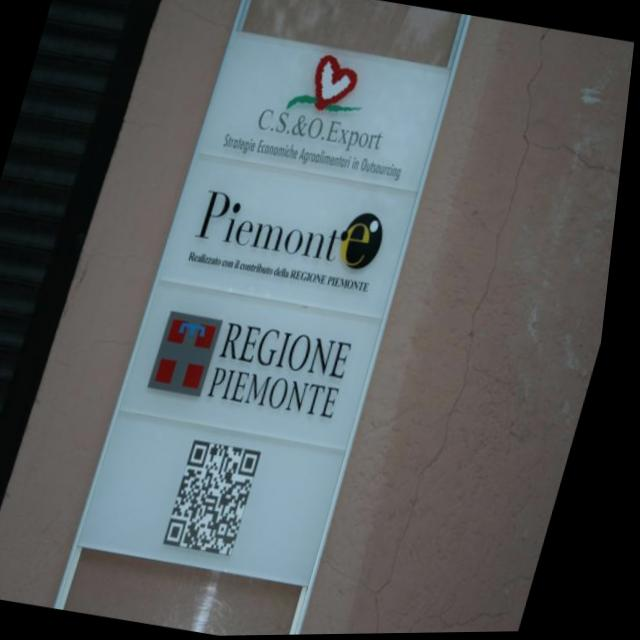qrcode: (176, 439, 273, 557)
